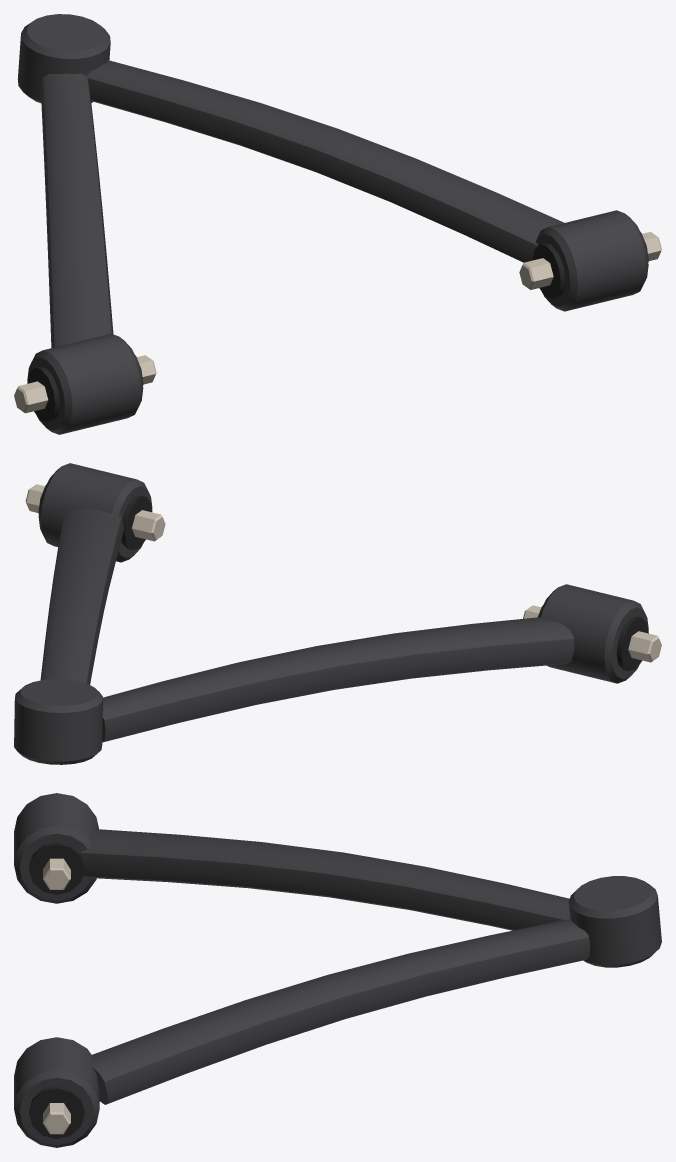
Rendered from SM_Susp_RL_UpperArm.fbx.
The picture shows the model from 3 angles, top to bottom: view 1: azimuth 30°, elevation 25°; view 2: azimuth 150°, elevation 25°; view 3: azimuth 270°, elevation 25°; orthographic projection.
Parts seen in each view (by area): view 1: Export_Susp_RL_UpperArm; view 2: Export_Susp_RL_UpperArm; view 3: Export_Susp_RL_UpperArm.
Boxes of the visible parts, left/top/right/bottom form: Export_Susp_RL_UpperArm: left=14, top=14, right=661, bottom=434; Export_Susp_RL_UpperArm: left=14, top=463, right=661, bottom=764; Export_Susp_RL_UpperArm: left=14, top=793, right=661, bottom=1147.
Bounding box in the file's own units: 0.3477 × 0.39 × 0.0729.
